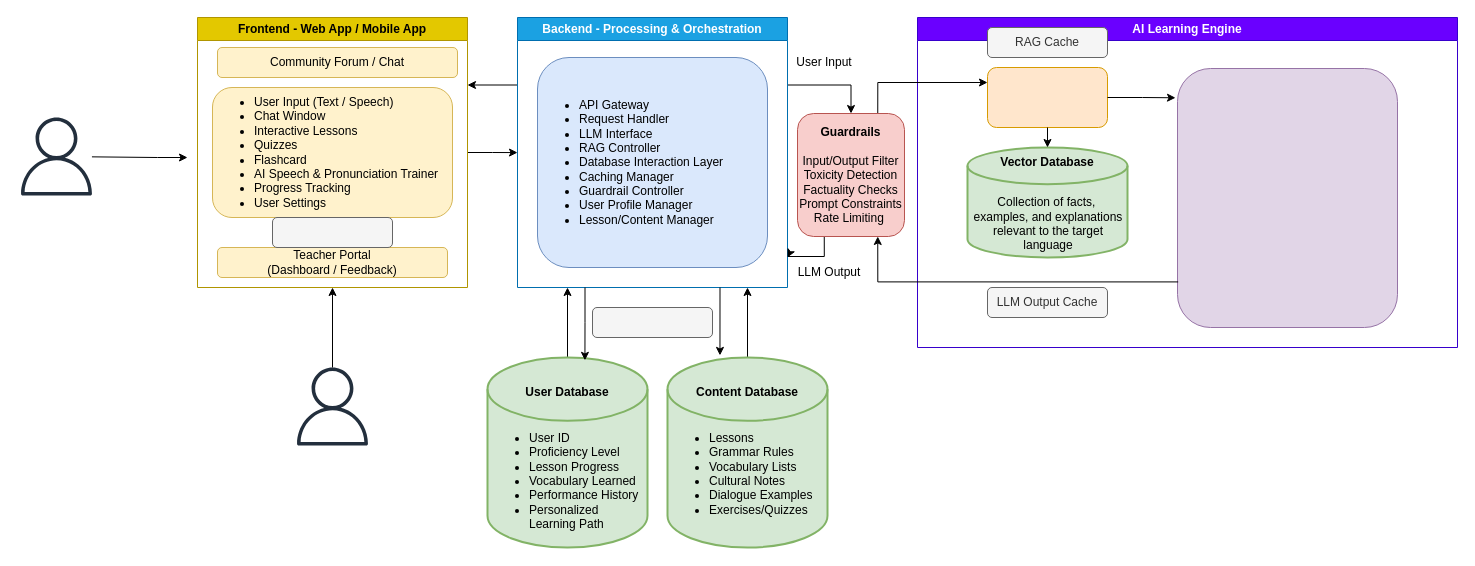
This 1475x566 diagram has some shape labels left out. The centre of each missing label's shape, as x and y in pixels:
"DB Query Cache" goes at pixel 652 322.
"Frontend Cache" goes at pixel 332 232.
"LLM Layer" goes at pixel 1287 198.
"RAG Retriever / Semantic Search" goes at pixel 1047 97.
"Student" goes at pixel 56 156.
"Teacher" goes at pixel 332 406.
